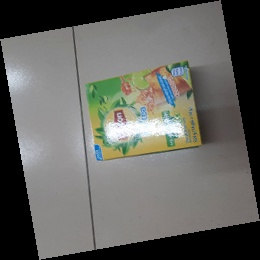LipTon: (84, 59, 205, 163)
